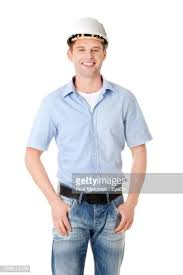Person_wearing_helmet: (64, 11, 111, 52)
